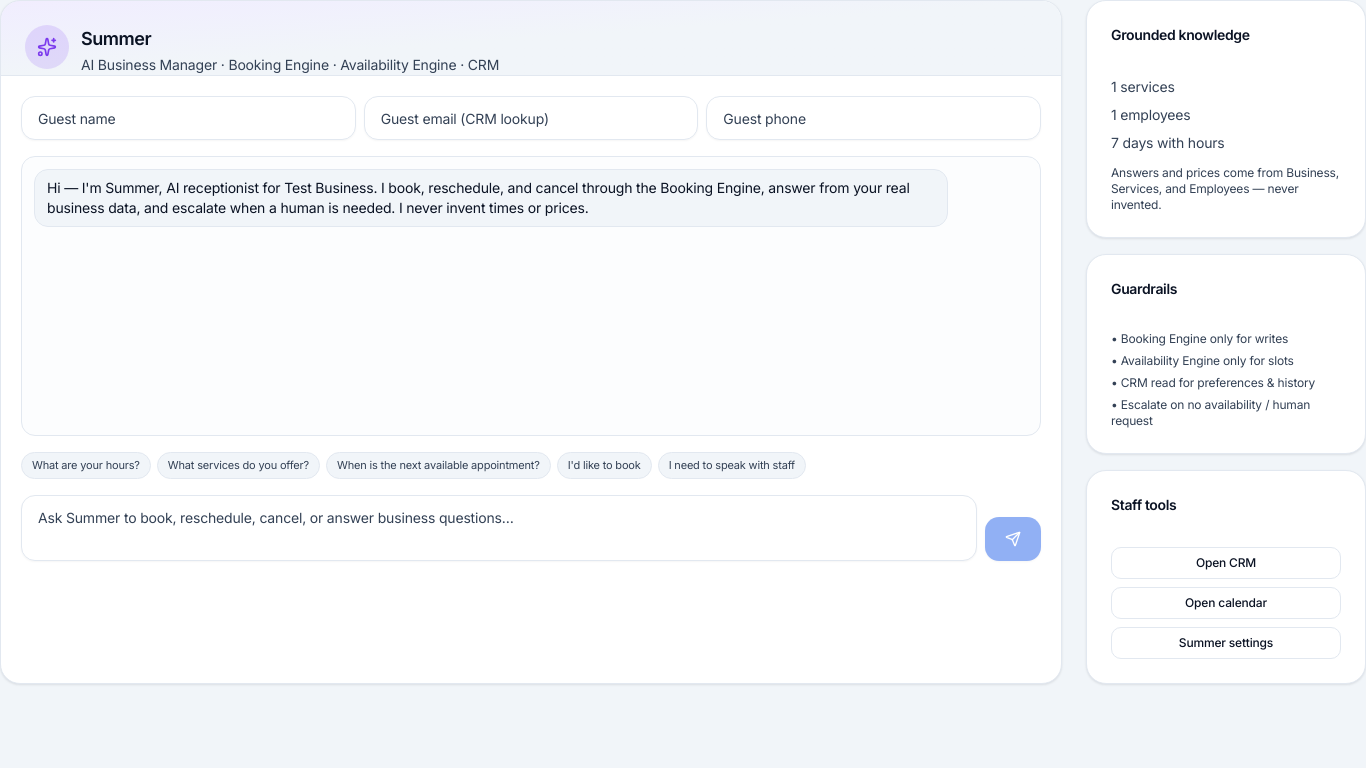
Summer Location disclosure › omits Location disclosure when the selected option has no locationName
This screenshot has width=1366, height=768.
Type "Book a consultation" into the text box named "Message Summer" at x=499, y=528, box x1=21 y1=494 x2=977 y2=560
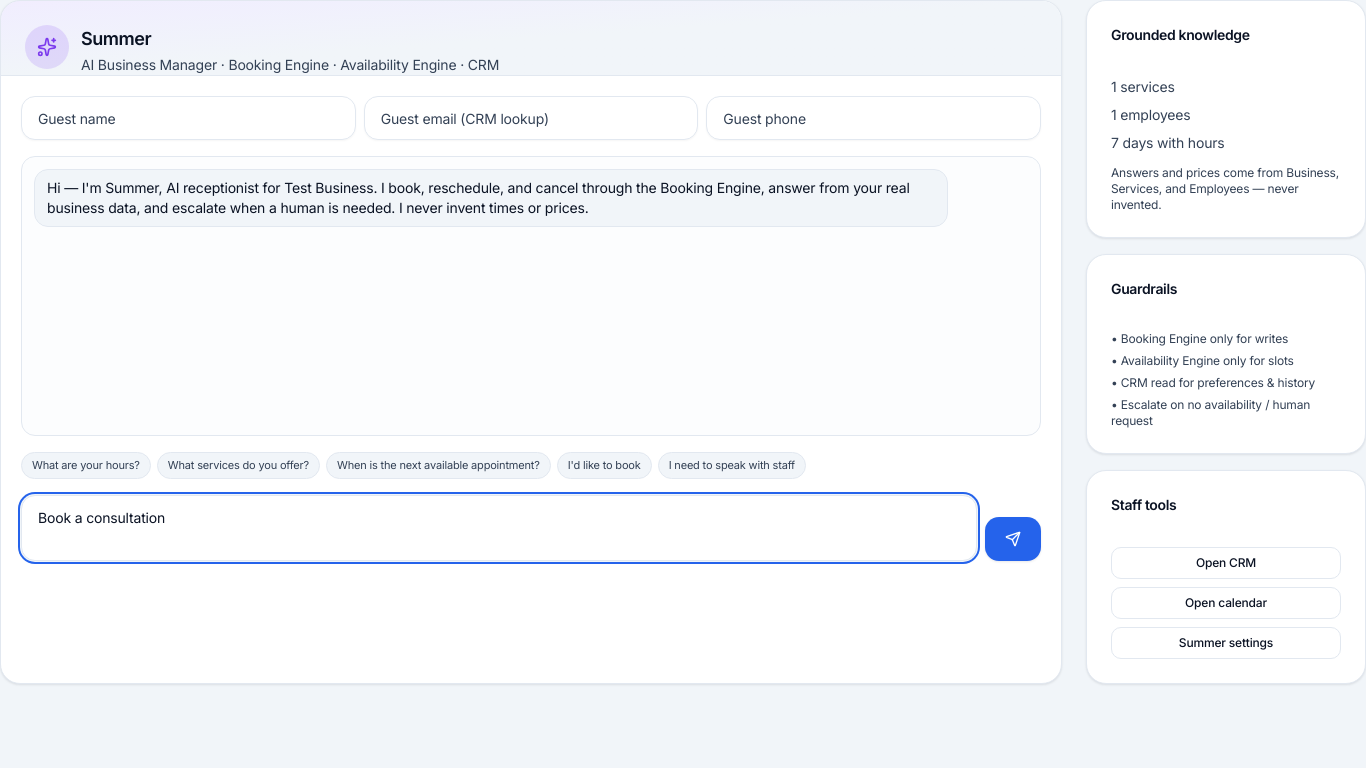
Click the button named "Send message" at x=1013, y=538, box x1=985 y1=516 x2=1041 y2=560
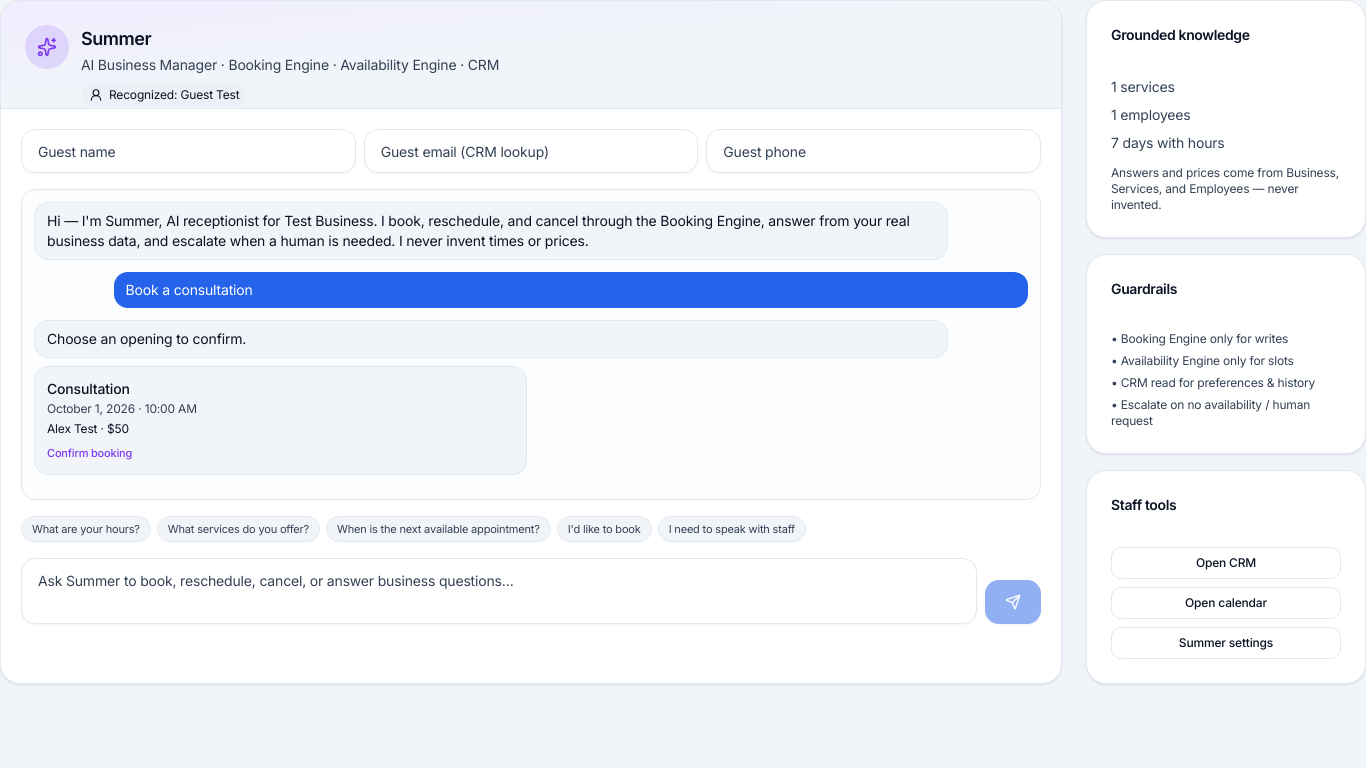
Click the button "Confirm booking" at x=88, y=388, box x1=34 y1=366 x2=527 y2=474
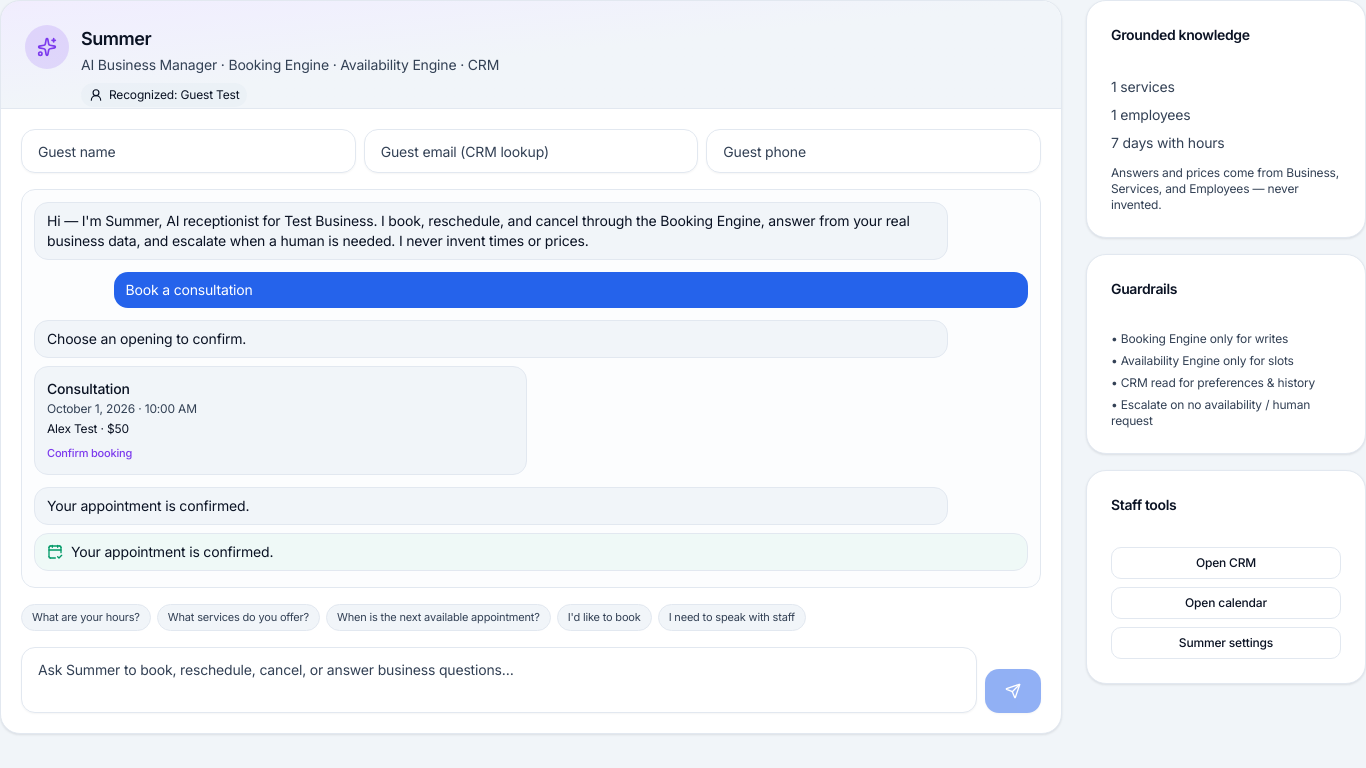
Now the 2nd text "Your appointment is confirmed." is shown, box x1=71 y1=542 x2=273 y2=562
